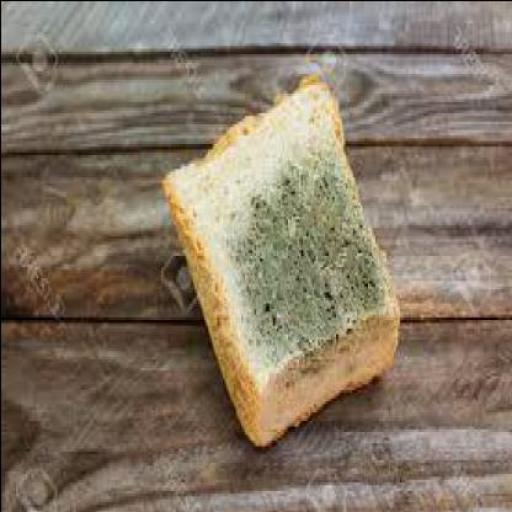biodegradable: (162, 72, 404, 442)
